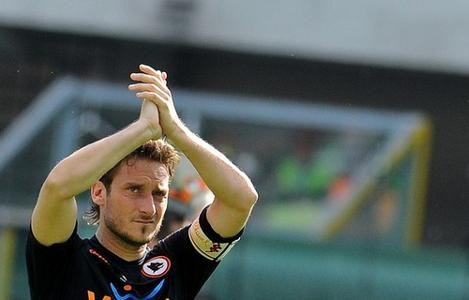person without safety: (23, 126, 221, 300)
